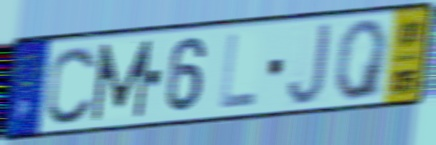6: (165, 34, 208, 116)
C: (44, 43, 100, 128)
J: (285, 20, 333, 108)
L: (217, 30, 259, 112)
M: (90, 37, 155, 125)
Q: (334, 16, 391, 103)
